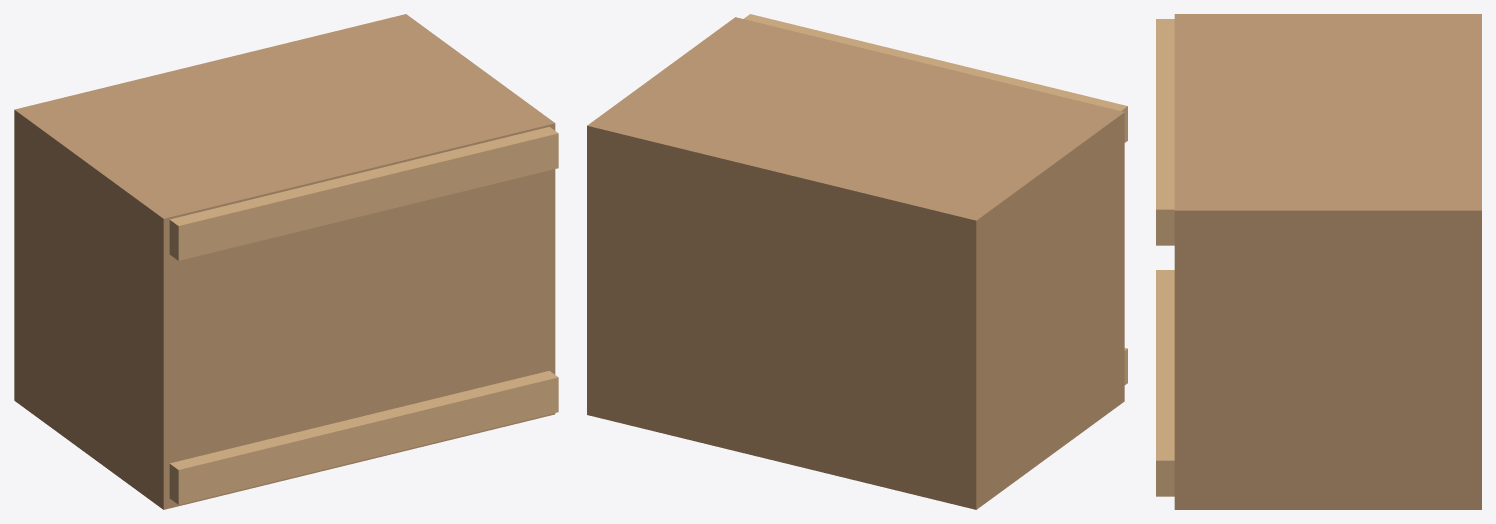
File: crate-light.glb
3 views of the same model, side by side, from view 1: azimuth 30°, elevation 25°; view 2: azimuth 150°, elevation 25°; view 3: azimuth 270°, elevation 25° (orthographic). The views are drawn at different scales.
Parts seen in each view (by area): view 1: crate-light; view 2: crate-light; view 3: crate-light.
Boxes of the visible parts, box(x1,y1,x2,y2) form: crate-light: box(14, 14, 558, 509); crate-light: box(587, 14, 1127, 509); crate-light: box(1156, 14, 1481, 509).
Bounding box in the file's own units: 2 × 1.42 × 1.4.
